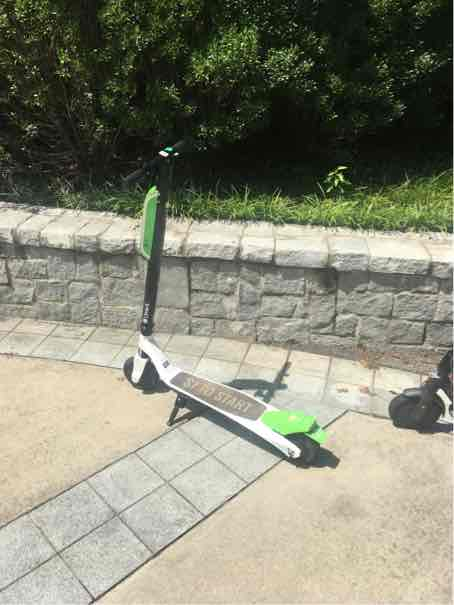scooter: (108, 121, 336, 475)
